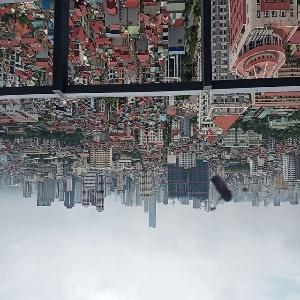drone: (190, 147, 270, 227)
